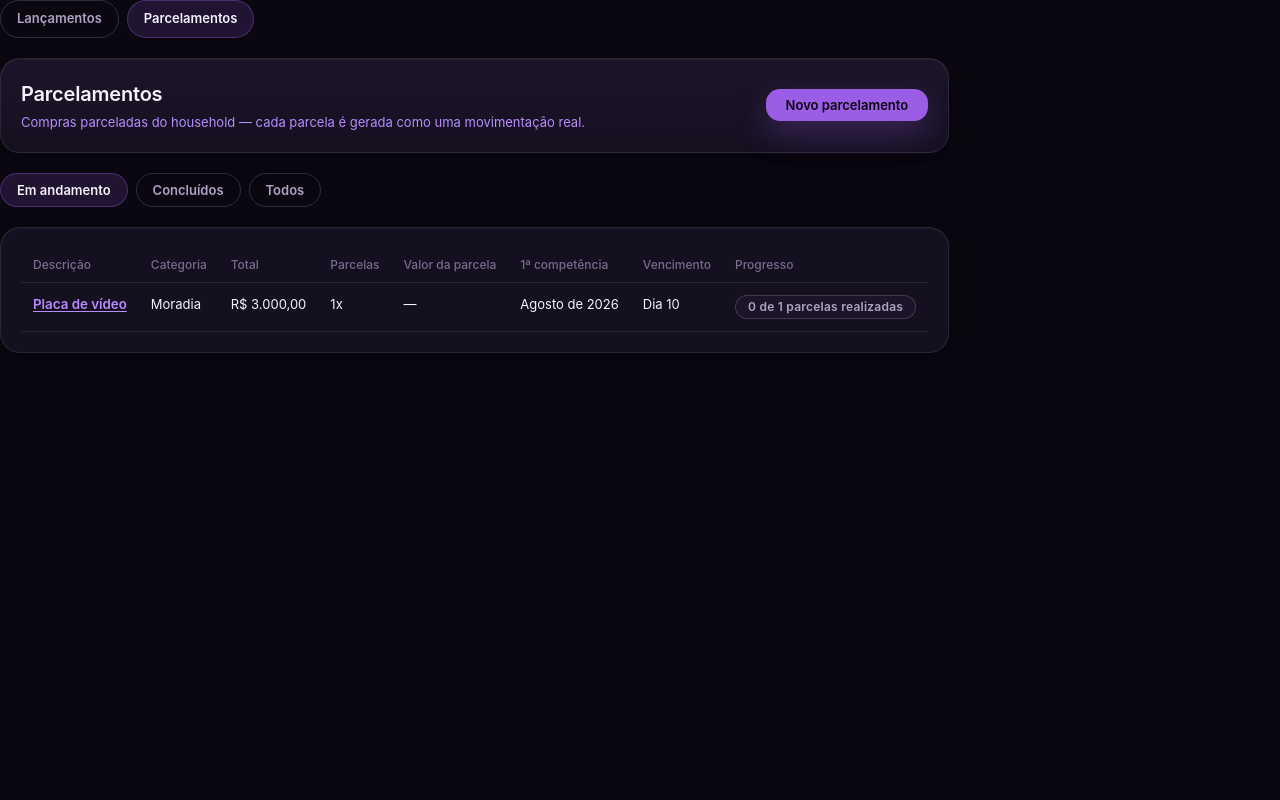
Test case: InstallmentPlansPage — realizar parcela a partir do detalhe do parcelamento (integração Parcelamentos ↔ Lançamentos) › erro ao realizar (competência fechada) mantém a parcela como não realizada, mostra erro sanitizado e não fecha o diálogo
The width and height of the screenshot is (1280, 800).
Click the button "Placa de vídeo" at (80, 304), box x1=33 y1=296 x2=127 y2=312
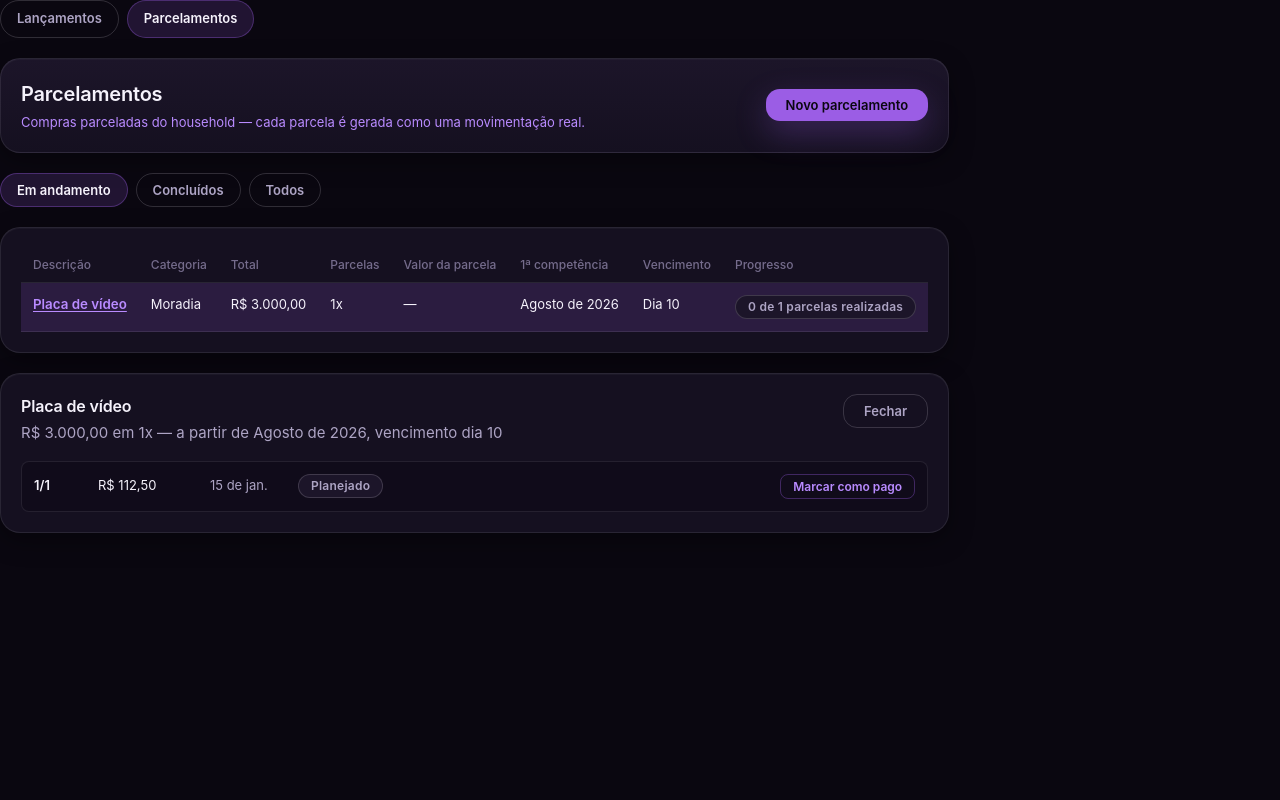
Check: the button with aria-label "Marcar parcela 1 de 1 como paga" is shown
Click the button with aria-label "Marcar parcela 1 de 1 como paga" at (848, 486), box x1=780 y1=474 x2=915 y2=498
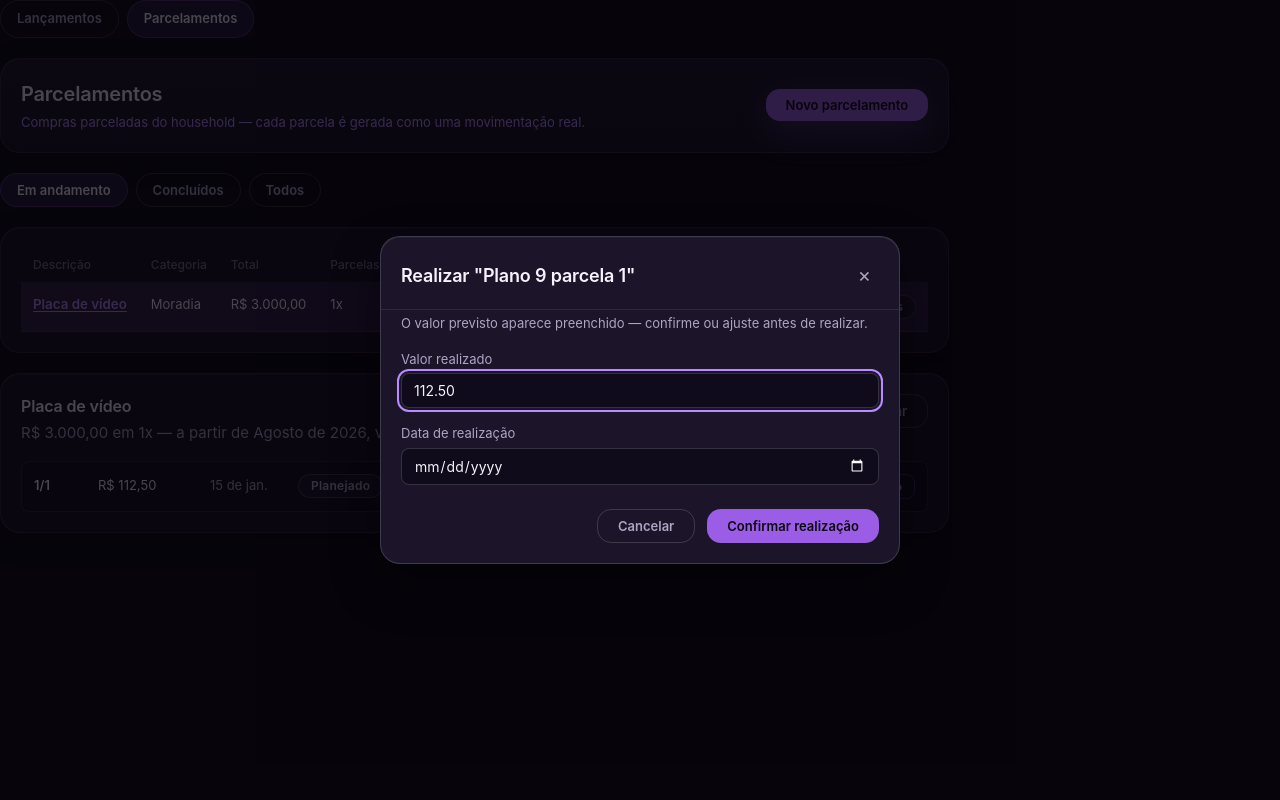
Type "2026-01-15" into the date field labelled "Data de realização" at (640, 466), box x1=401 y1=448 x2=879 y2=485
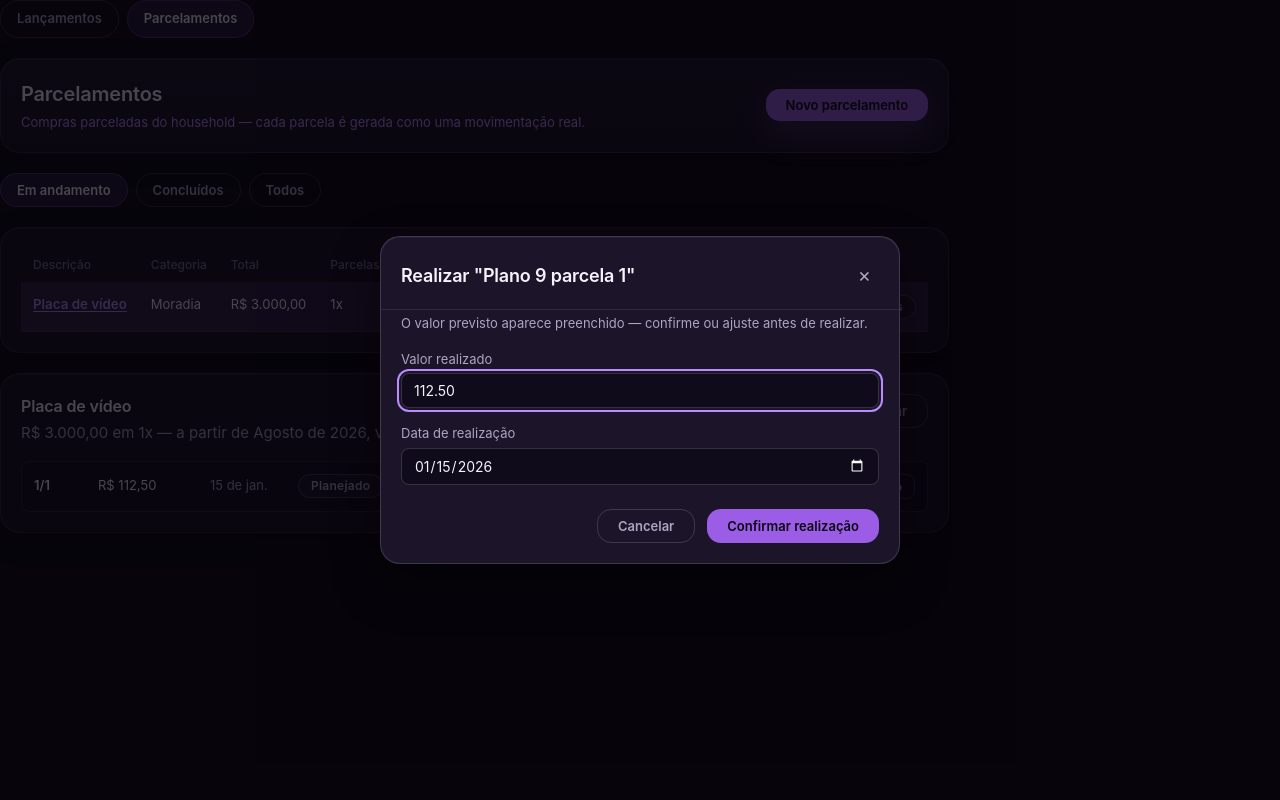
Click the button "Confirmar realização" at (793, 526), box x1=707 y1=509 x2=879 y2=543
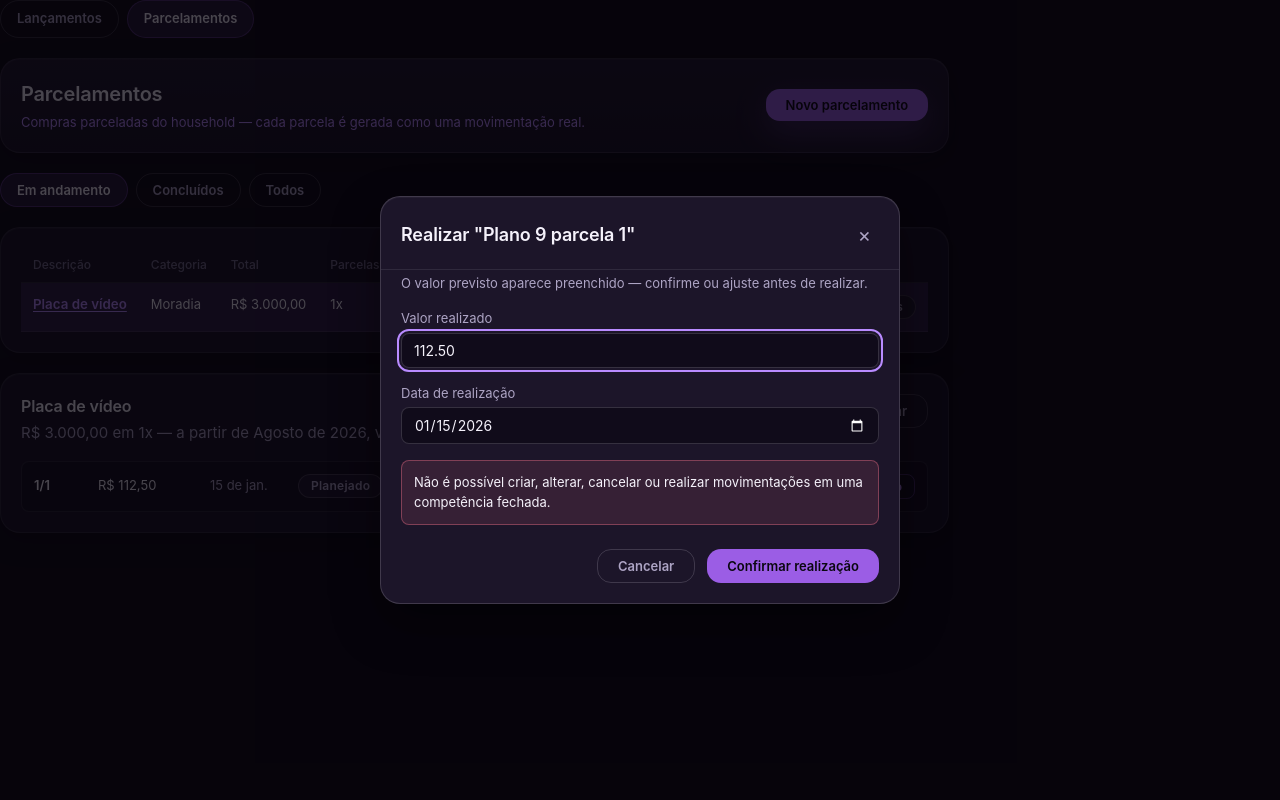
Check: the text "0 de 1 parcelas realizadas" is shown, box x1=735 y1=295 x2=916 y2=319
Check: the dialog is shown, box x1=380 y1=196 x2=900 y2=604
Check: the message shows "competência fechada", box x1=414 y1=474 x2=863 y2=510
